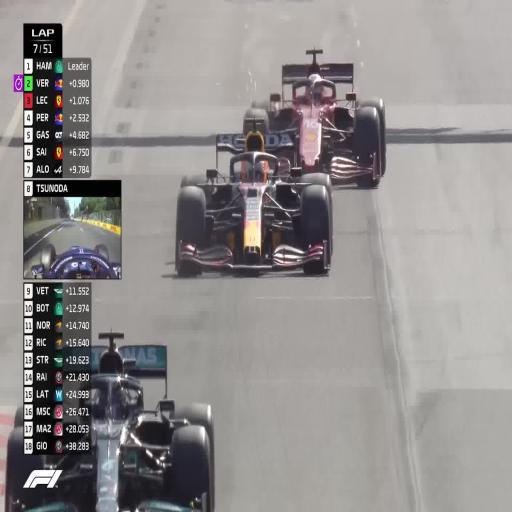f1_car: (5, 331, 214, 511), (176, 129, 333, 275), (243, 49, 386, 186), (31, 244, 121, 278), (274, 138, 289, 150), (64, 398, 68, 402), (48, 421, 50, 423), (278, 137, 279, 140), (84, 409, 86, 410), (266, 135, 267, 137), (270, 151, 271, 152), (279, 135, 280, 136)
